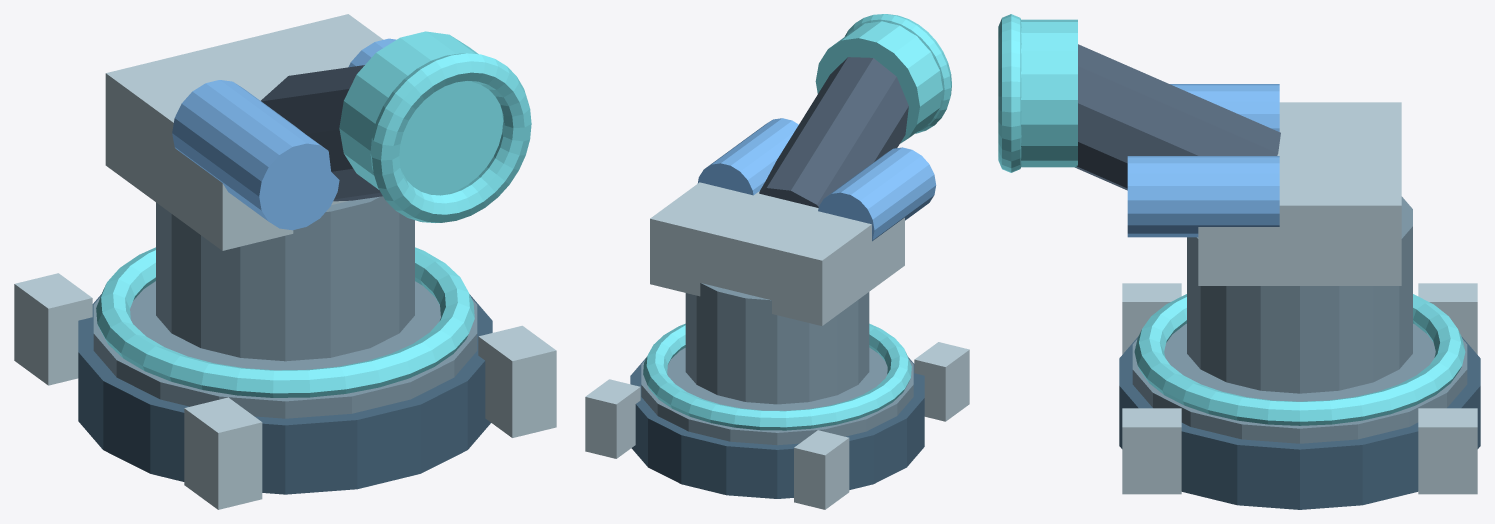
Rendered from pulse_cannon.glb.
3 renders of one model, left to right at view 1: azimuth 30°, elevation 25°; view 2: azimuth 150°, elevation 25°; view 3: azimuth 270°, elevation 25°, orthographic. The views are drawn at different scales.
Visible parts, largest first — view 1: rotating_housing_7, pedestal_0, turret_head_8, energy_ring_2, muzzle_10, cooling_rail_12, armor_ring_1, muzzle_glow_11, bolt_5, bolt_6, bolt_3, weapon_shaft_9; view 2: turret_head_8, rotating_housing_7, pedestal_0, weapon_shaft_9, energy_ring_2, armor_ring_1, muzzle_10, cooling_rail_12, bolt_3, cooling_rail_13, bolt_4, bolt_5 (+1 smaller); view 3: turret_head_8, rotating_housing_7, pedestal_0, weapon_shaft_9, energy_ring_2, cooling_rail_13, armor_ring_1, muzzle_10, bolt_4, bolt_6, muzzle_glow_11, cooling_rail_12 (+2 smaller).
Part boxes in pixels (box(x1,y1,x2,y2)): rotating_housing_7: box(156, 196, 414, 361); pedestal_0: box(78, 294, 492, 494); turret_head_8: box(105, 14, 383, 250); energy_ring_2: box(96, 247, 474, 397); muzzle_10: box(339, 31, 502, 195); cooling_rail_12: box(172, 80, 339, 230); armor_ring_1: box(93, 281, 477, 418); muzzle_glow_11: box(370, 53, 531, 222); bolt_5: box(184, 397, 262, 509); bolt_6: box(478, 325, 556, 437); bolt_3: box(14, 273, 92, 385); weapon_shaft_9: box(261, 65, 382, 201); turret_head_8: box(650, 182, 904, 325); rotating_housing_7: box(685, 283, 869, 404); pedestal_0: box(630, 357, 924, 498); weapon_shaft_9: box(759, 57, 908, 207); energy_ring_2: box(643, 323, 911, 430); armor_ring_1: box(641, 347, 913, 445); muzzle_10: box(815, 21, 942, 143); cooling_rail_12: box(818, 147, 936, 241); bolt_3: box(794, 430, 849, 509); cooling_rail_13: box(697, 118, 798, 195); bolt_4: box(585, 379, 640, 458); bolt_5: box(914, 342, 969, 421); turret_head_8: box(1198, 102, 1401, 285); rotating_housing_7: box(1187, 196, 1412, 393); pedestal_0: box(1119, 336, 1480, 509); weapon_shaft_9: box(1075, 44, 1280, 190); energy_ring_2: box(1134, 294, 1465, 425); cooling_rail_13: box(1127, 156, 1279, 237); armor_ring_1: box(1132, 323, 1467, 443); muzzle_10: box(1021, 19, 1077, 167); bolt_4: box(1418, 408, 1477, 494); bolt_6: box(1122, 408, 1181, 494); muzzle_glow_11: box(998, 14, 1021, 172); cooling_rail_12: box(1170, 84, 1279, 131).
Size of the model in its own units: 0.9916 by 1.22 by 1.3.
